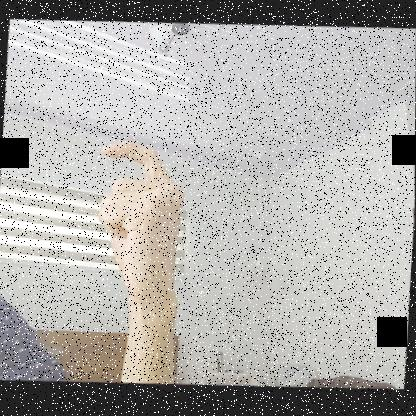X: (90, 133, 192, 311)
